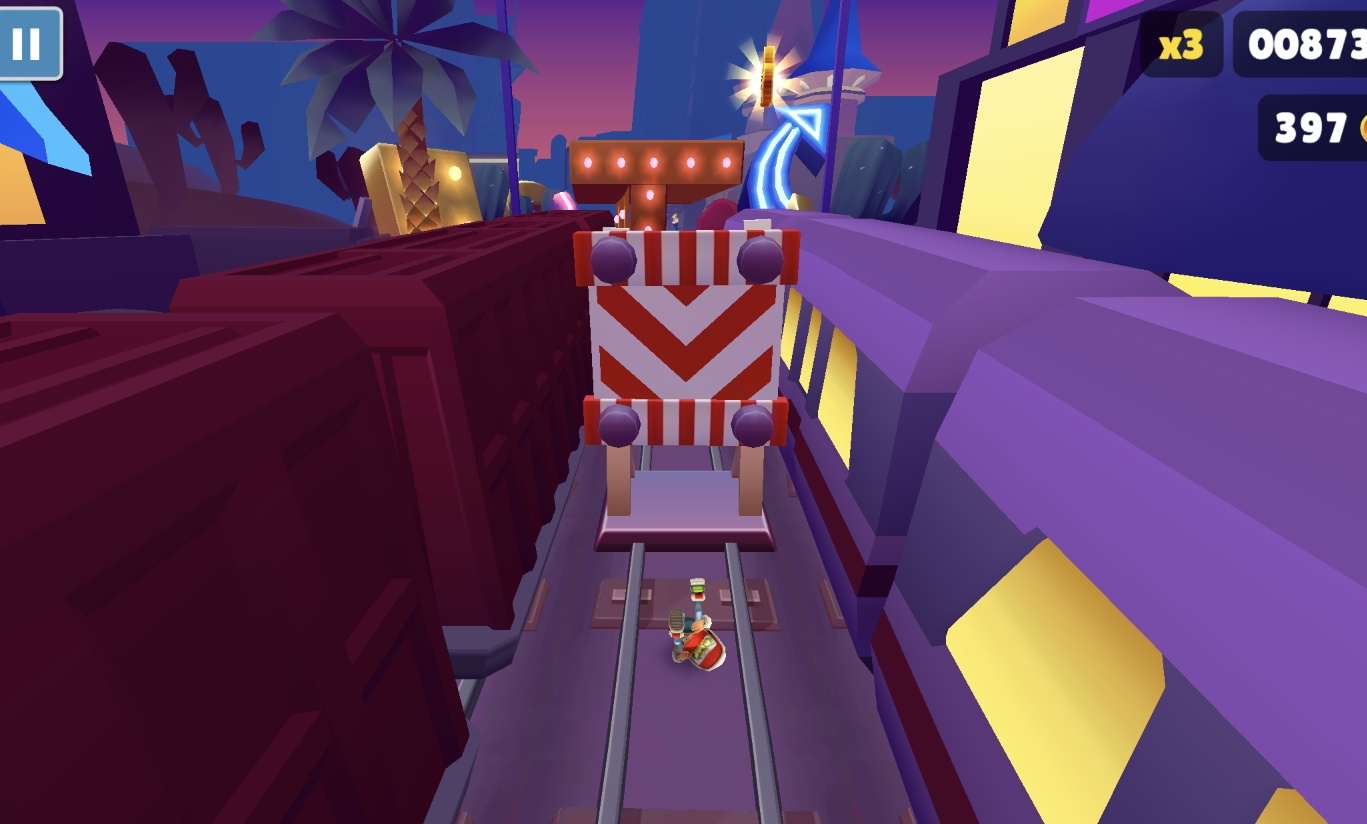overhead_barrier: (574, 220, 801, 554)
pillar: (623, 183, 675, 231)
train: (731, 209, 1367, 824), (0, 208, 615, 824)
